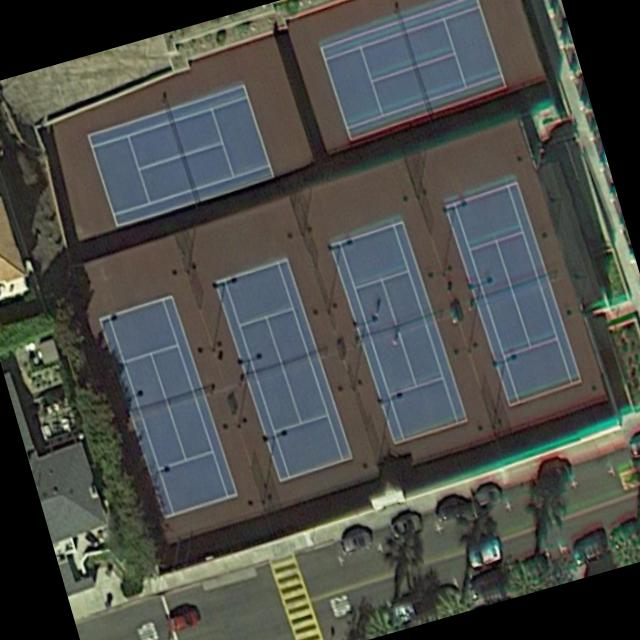small-vehicle: (604, 516, 640, 553), (568, 536, 606, 569), (431, 492, 470, 523), (464, 539, 501, 571), (533, 456, 572, 486), (337, 527, 373, 557), (387, 512, 422, 541), (161, 609, 200, 635), (470, 484, 500, 511), (626, 438, 640, 461)
